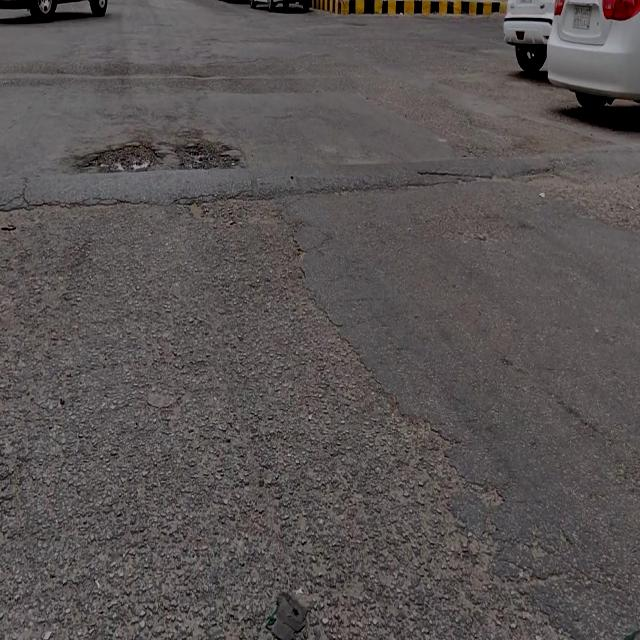Potholes: (81, 136, 154, 169), (177, 141, 235, 171)
